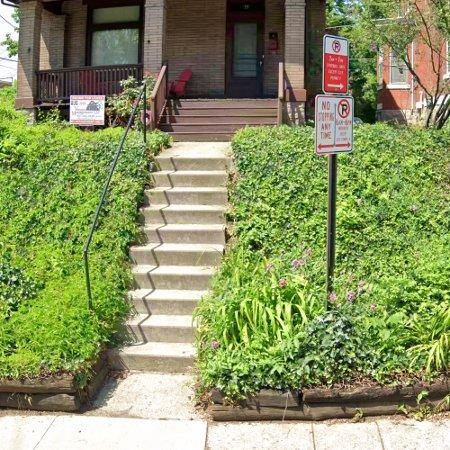stairs: (113, 142, 232, 374), (161, 99, 278, 141)
